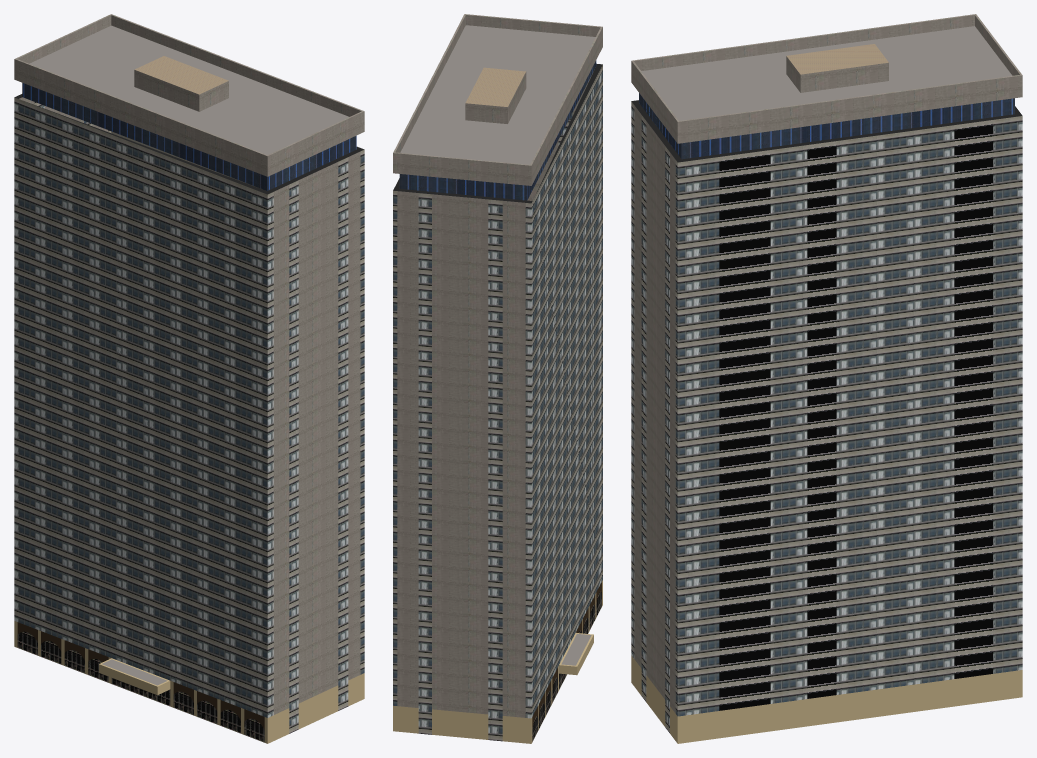
The model's file is suh.fbx.
3 renders of one model, left to right at view 1: azimuth 30°, elevation 25°; view 2: azimuth 150°, elevation 25°; view 3: azimuth 270°, elevation 25°, orthographic. The views are drawn at different scales.
Parts seen in each view (by area): view 1: Model; view 2: Model; view 3: Model.
Part boxes in pixels (x1=…): Model: x1=14, y1=14, x2=364, y2=743; Model: x1=393, y1=14, x2=602, y2=743; Model: x1=631, y1=14, x2=1022, y2=743.
Size of what is drawn, in the model's own units: 38.61 by 105 by 59.1.
